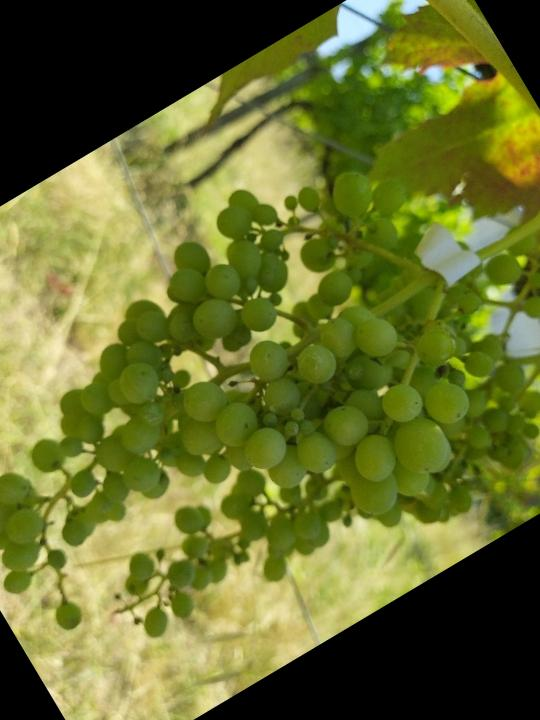grape: (0, 107, 540, 705)
